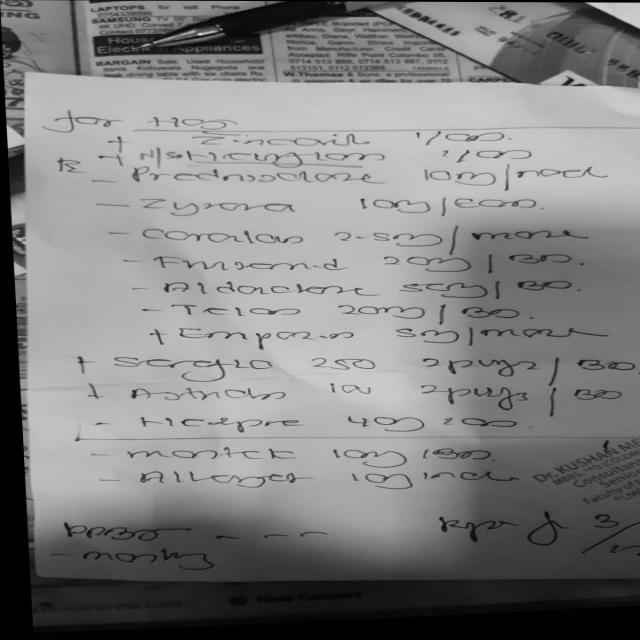Prescription: (98, 352, 634, 380), (119, 156, 607, 186), (116, 382, 632, 409), (132, 192, 548, 220), (146, 248, 577, 275), (137, 222, 593, 246), (156, 275, 582, 299), (168, 325, 601, 347), (126, 465, 508, 487), (128, 413, 518, 433), (167, 302, 535, 322)
